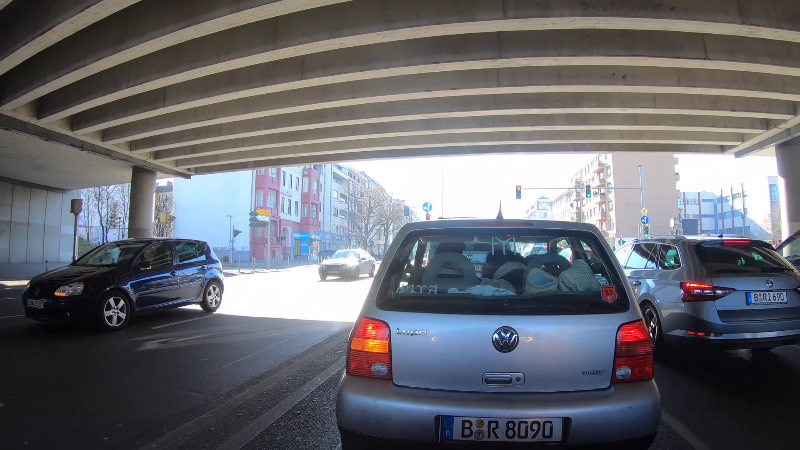Plate: (437, 415, 567, 445), (747, 289, 787, 304), (24, 298, 45, 309)
